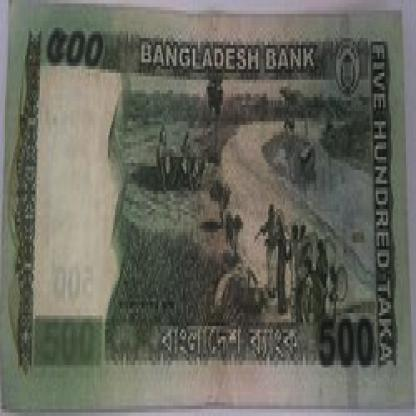500 taka: (32, 18, 122, 84)
currency: (0, 6, 403, 397)
